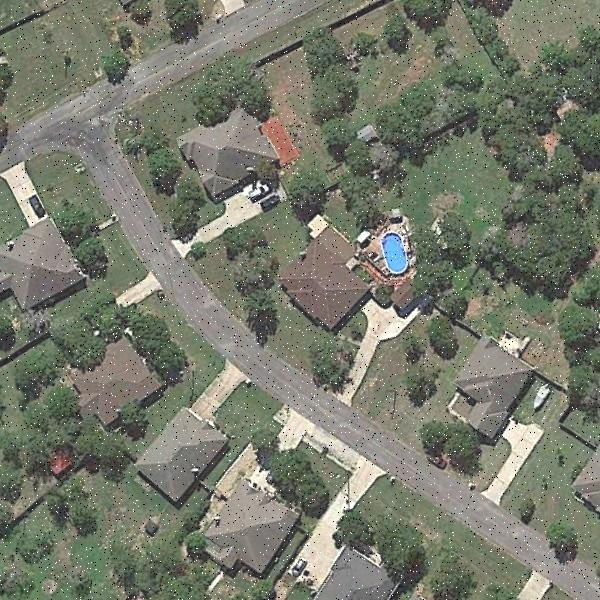Buildings: (223, 482, 288, 572), (456, 342, 522, 429), (190, 119, 270, 186), (146, 423, 212, 492), (290, 241, 356, 308), (0, 226, 65, 292), (83, 357, 147, 402), (320, 560, 375, 600)
